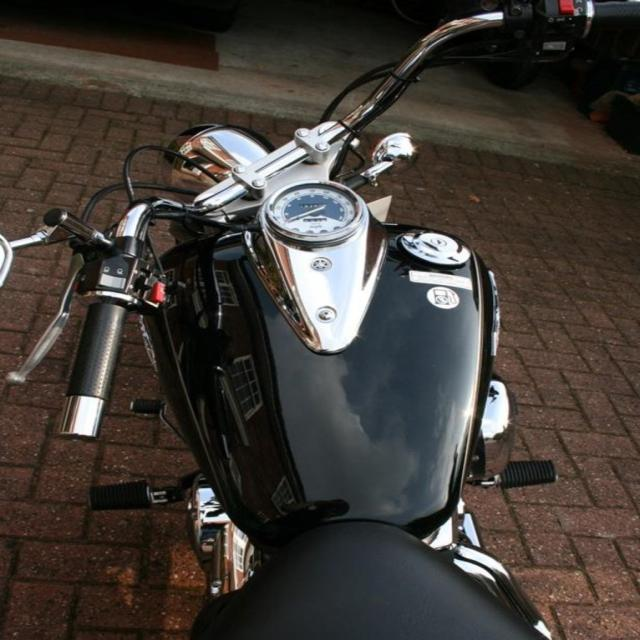Motorbikes: (51, 113, 568, 635)
